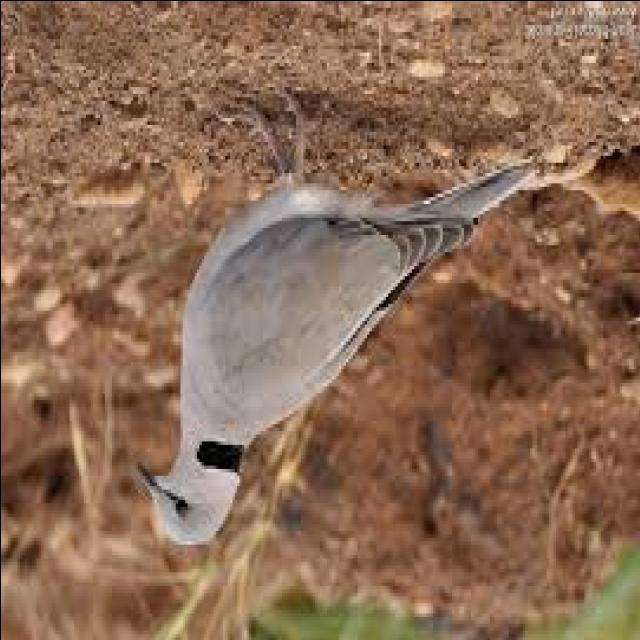pigeon: (134, 131, 546, 554)
